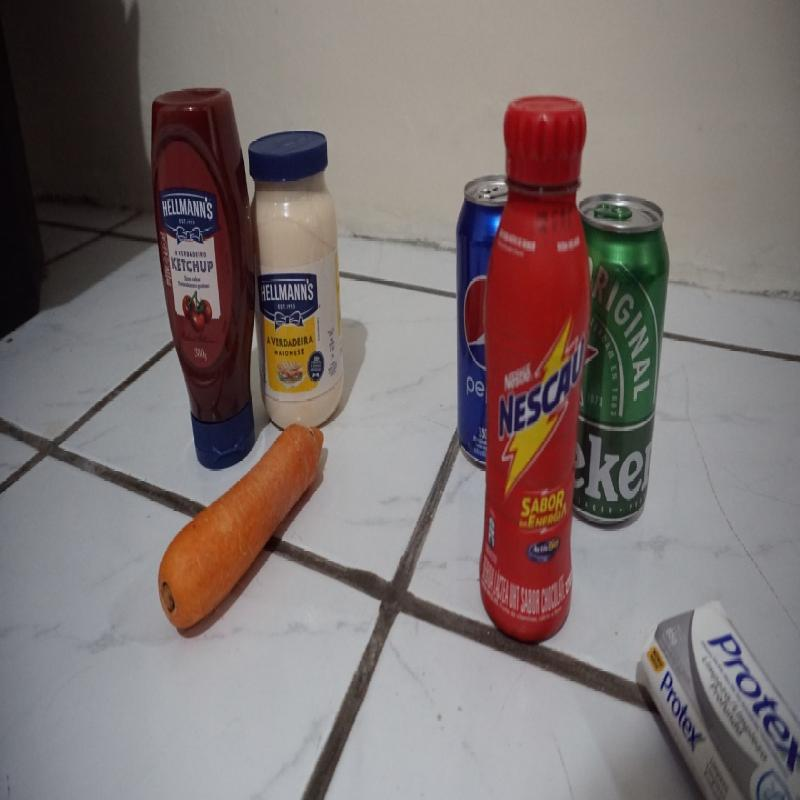Beer can: (584, 190, 670, 534)
Carrot: (159, 423, 323, 626)
Chocolate Milk: (487, 86, 582, 643)
Ketchup: (154, 89, 257, 470)
Mayonnaise: (252, 129, 349, 428)
Soap: (642, 604, 799, 800)
Soda can: (455, 179, 488, 461)
